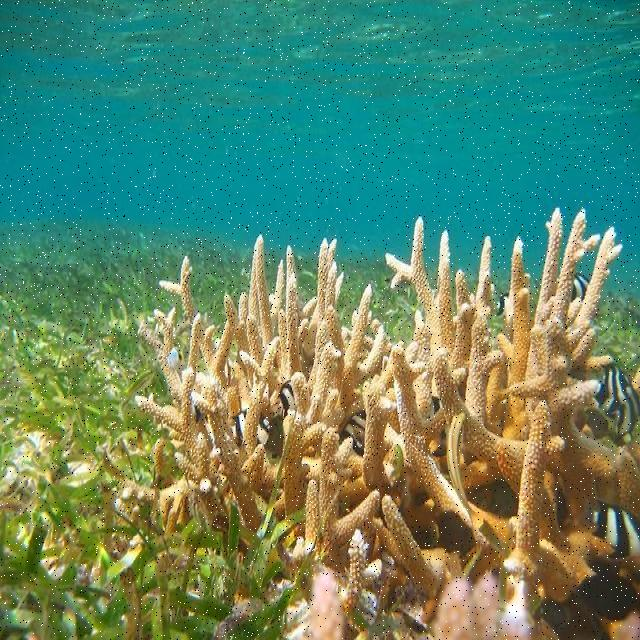fish: (595, 365, 639, 430), (595, 503, 639, 558)
reefs: (112, 204, 639, 604)
